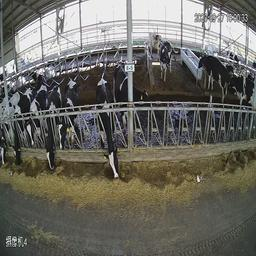cow: (95, 76, 121, 179), (112, 63, 147, 132), (12, 83, 34, 165), (198, 52, 228, 104), (58, 78, 79, 152), (45, 85, 62, 172), (26, 83, 47, 150), (229, 72, 255, 112), (158, 39, 175, 80), (148, 31, 163, 58)
